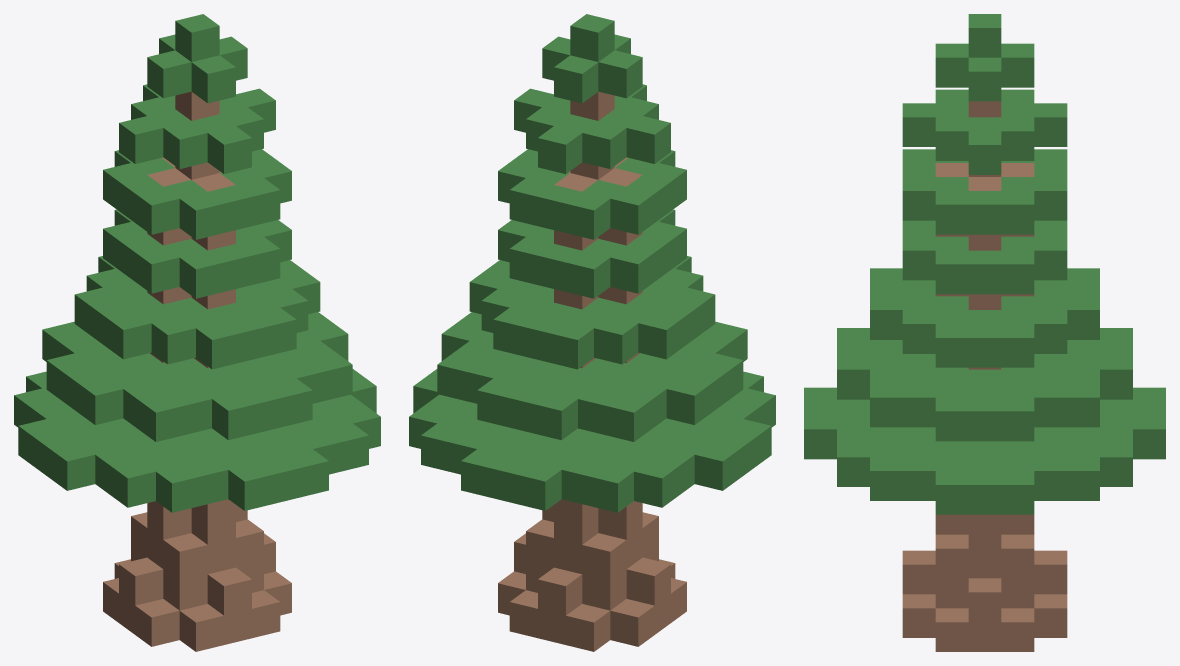
File: tree_e_v1.fbx
3 renders of one model, left to right at view 1: azimuth 30°, elevation 25°; view 2: azimuth 150°, elevation 25°; view 3: azimuth 270°, elevation 25°, orthographic.
Visible parts, largest first — view 1: tree_e; view 2: tree_e; view 3: tree_e.
Boxes of the visible parts, x1,y1,x2,y2 form: tree_e: (14, 14, 380, 651); tree_e: (409, 14, 775, 651); tree_e: (804, 14, 1165, 651).
Bounding box in the file's own units: 11 × 20 × 11.
